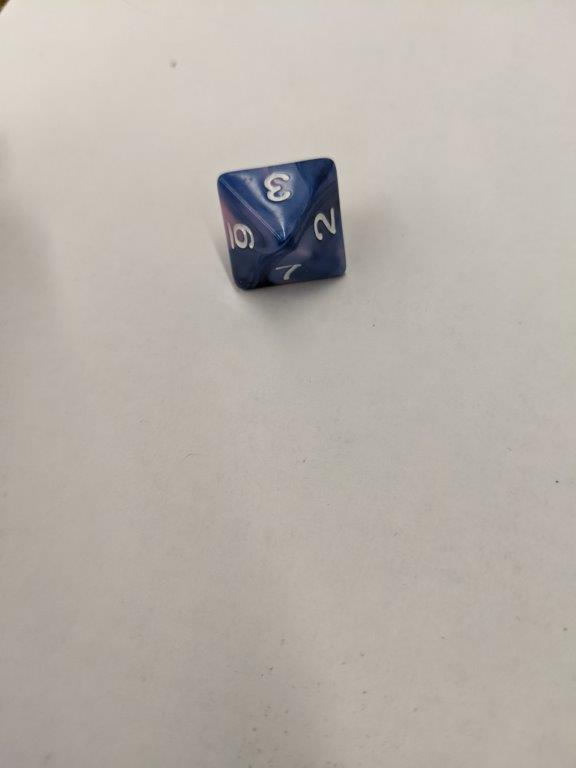d8-3: (215, 157, 349, 294)
